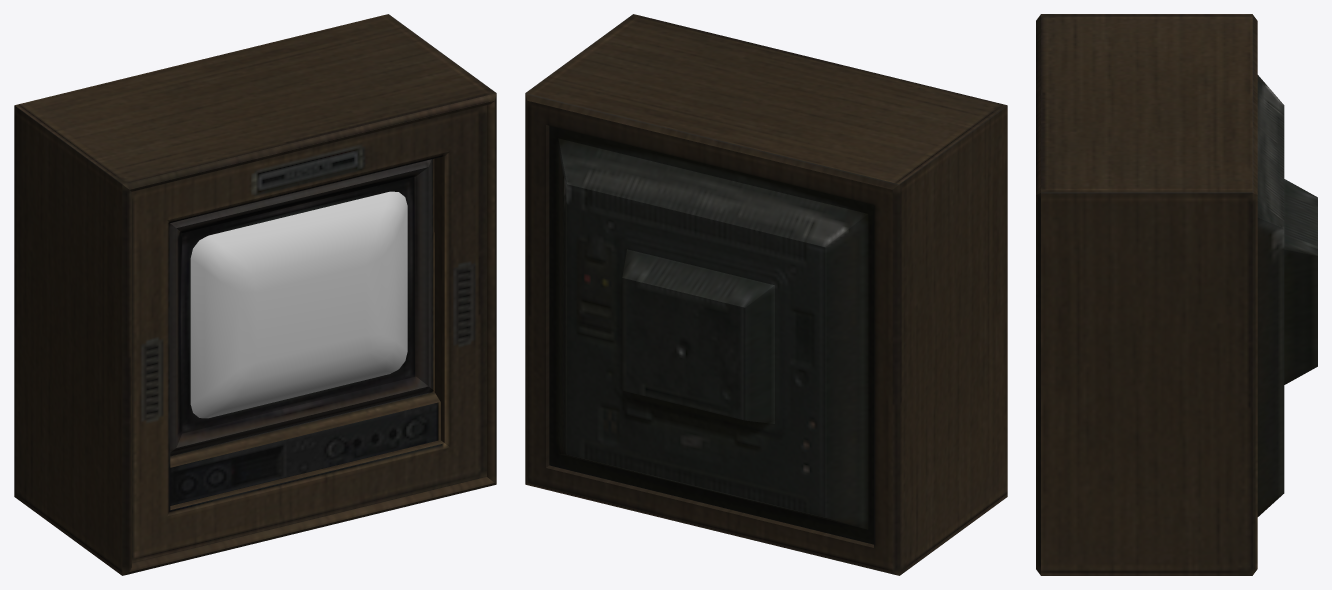
3 views of the same model, side by side, from view 1: azimuth 30°, elevation 25°; view 2: azimuth 150°, elevation 25°; view 3: azimuth 270°, elevation 25° (orthographic). The views are drawn at different scales.
Visible parts, largest first — view 1: tv_mp_1_1; view 2: tv_mp_1_1; view 3: tv_mp_1_1.
Part boxes in pixels (left/top/right/bottom): tv_mp_1_1: left=14, top=14, right=496, bottom=575; tv_mp_1_1: left=525, top=14, right=1007, bottom=575; tv_mp_1_1: left=1036, top=14, right=1317, bottom=575.
Size of the model in its own units: 0.63 by 0.63 by 0.42.
